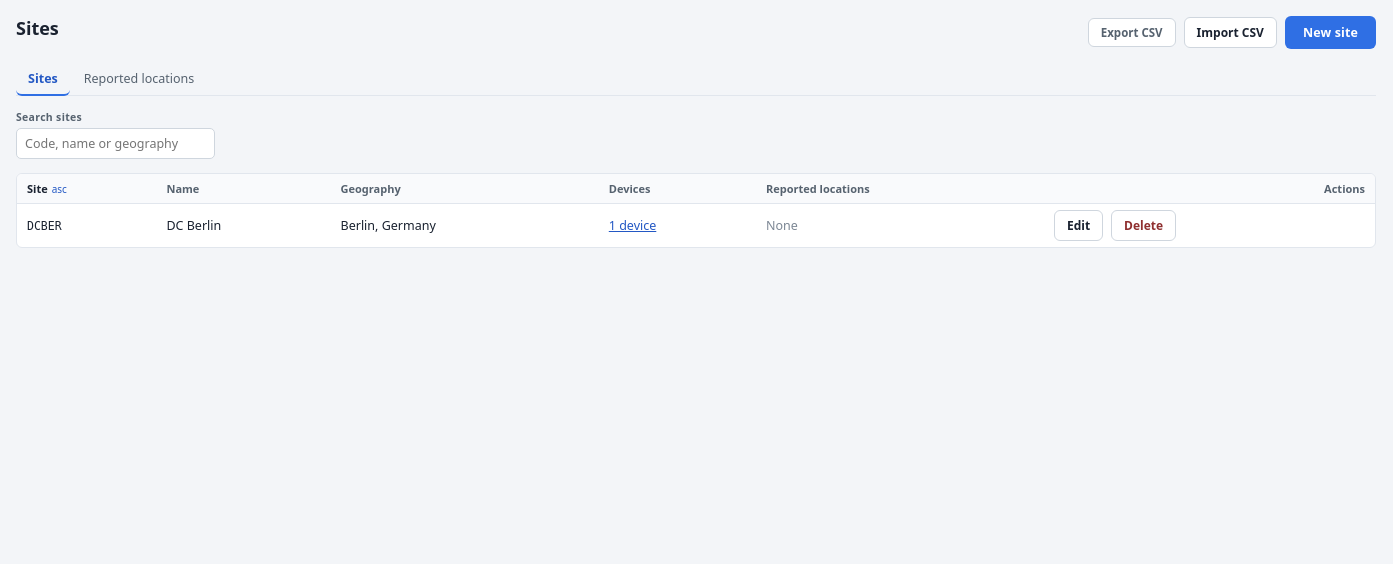
Test: site geography lookup › leaves the map position out of a patch that does not change it, and says when no place data is loaded
Later steps or results of the test are not shown.
Click the button with aria-label "Edit DCBER" at (1078, 226), box [1054,210,1103,241]
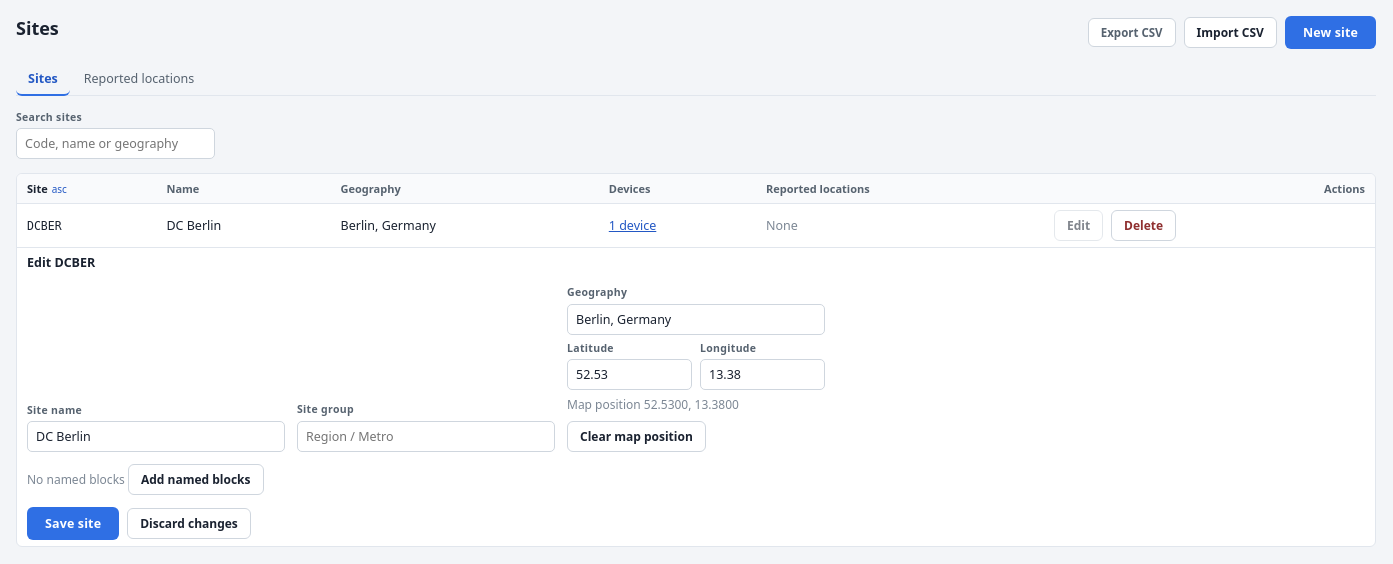
expect the text "Map position 52.5300, 13.3800 Clear map position" is shown: met, box [567,396,739,452]
Type " DC" into the dropdown labelled "Geography" at (696, 320), box [567,304,825,335]
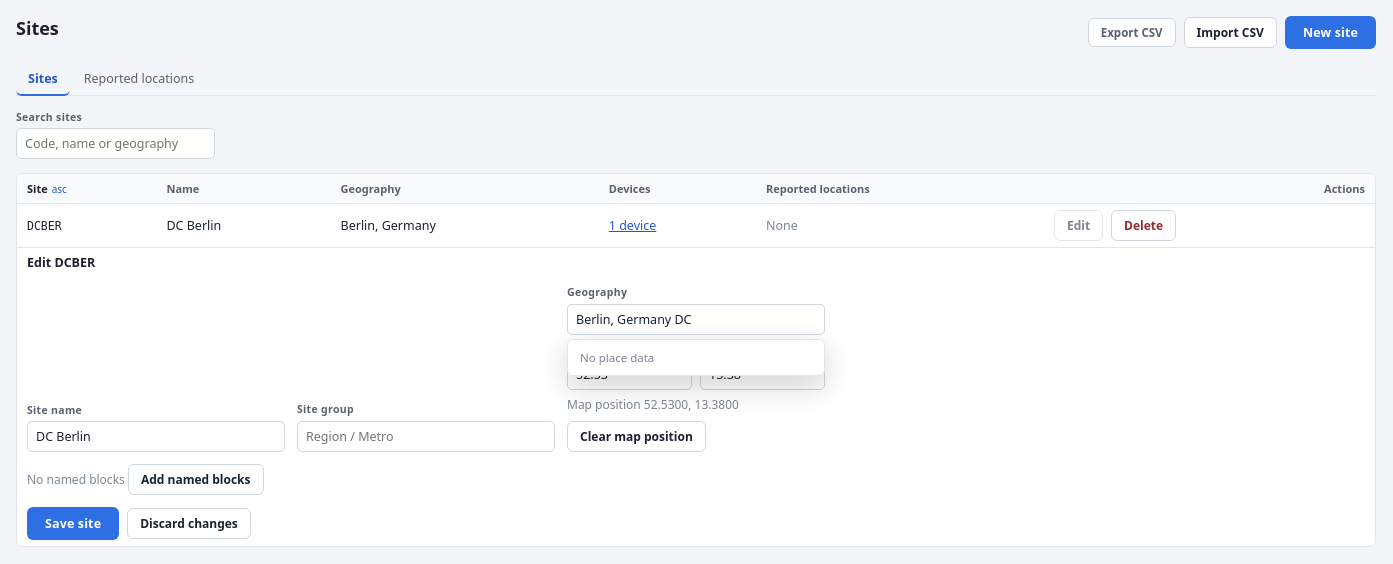
expect the option "No place data" is shown: met, box [580,350,654,365]
